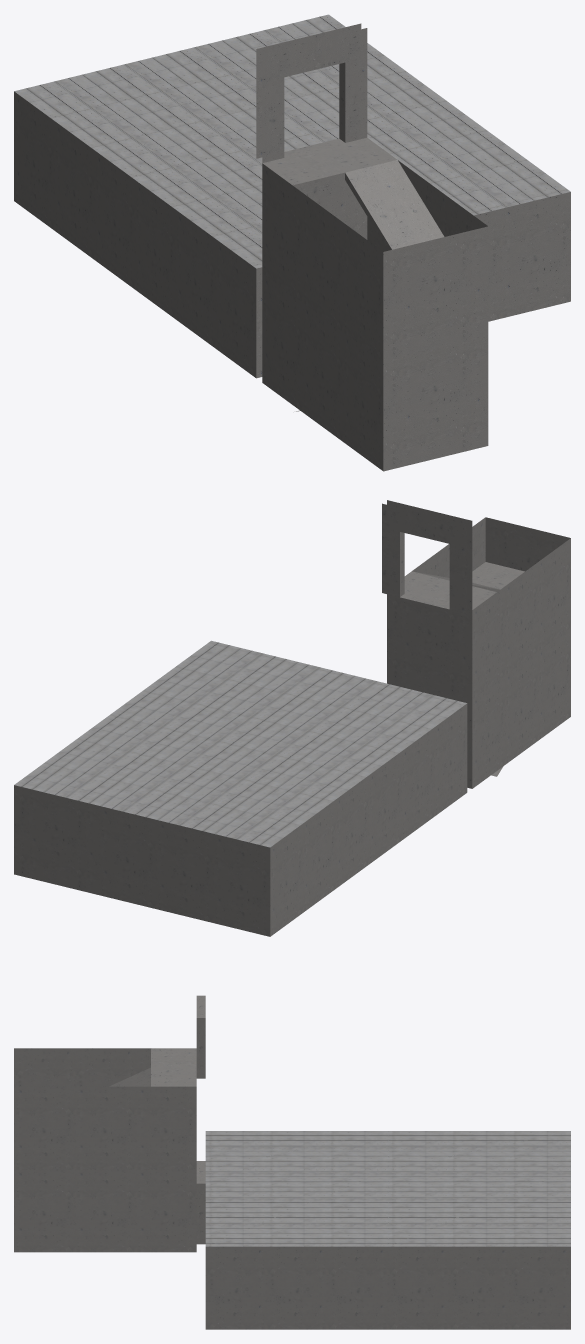
File: LabLevel.fbx
3 views of the same model, one above another, from view 1: azimuth 30°, elevation 25°; view 2: azimuth 150°, elevation 25°; view 3: azimuth 270°, elevation 25° (orthographic). The views are drawn at different scales.
Parts seen in each view (by area): view 1: ceiling.014, wall.011, wall.019, wall.012, wall.049, ceiling.015, ceiling.003, wall.050, wall.041, wall.017, wall.002, stairs (+4 smaller); view 2: ceiling.014, ceiling.003, wall.020, wall.019, wall.012, wall.049, wall.011, ceiling.008, ceiling.015, wall.042, wall.043, wall.002 (+4 smaller); view 3: wall.048, wall.038, wall.036, wall.016, ceiling.003, ceiling.014, ceiling.008, ceiling.015, wall.011, stairs, wall.018, wall.002.
Boxes of the visible parts, x1,y1,x2,y2 form: ceiling.014: (119, 14, 449, 154); wall.011: (262, 163, 383, 361); wall.019: (135, 180, 256, 377); wall.012: (262, 273, 383, 470); wall.049: (14, 91, 134, 289); ceiling.015: (14, 65, 239, 179); ceiling.003: (240, 103, 570, 215); wall.050: (383, 226, 488, 361); wall.041: (383, 336, 488, 471); wall.017: (474, 192, 570, 321); wall.002: (256, 23, 367, 162); stairs: (262, 138, 444, 250); ceiling.014: (14, 713, 282, 826); ceiling.003: (113, 640, 381, 754); wall.020: (99, 806, 270, 936); wall.019: (369, 703, 467, 864); wall.012: (472, 627, 570, 788); wall.049: (270, 775, 368, 936); wall.011: (472, 538, 570, 699); ceiling.008: (284, 682, 466, 775); ceiling.015: (185, 754, 368, 847); wall.042: (14, 785, 99, 894); wall.043: (387, 594, 472, 699); wall.002: (382, 500, 472, 613); wall.048: (205, 1246, 388, 1329); wall.038: (14, 1086, 196, 1169); wall.036: (14, 1169, 196, 1252); wall.016: (388, 1246, 570, 1329); ceiling.003: (205, 1169, 388, 1246); ceiling.014: (388, 1169, 570, 1246); ceiling.008: (205, 1131, 388, 1169); ceiling.015: (388, 1131, 570, 1169); wall.011: (14, 1048, 150, 1086); stairs: (109, 1048, 196, 1086); wall.018: (196, 1161, 205, 1244); wall.002: (196, 995, 205, 1078).
Bounding box in the file's own units: 900 × 920 × 1830.
